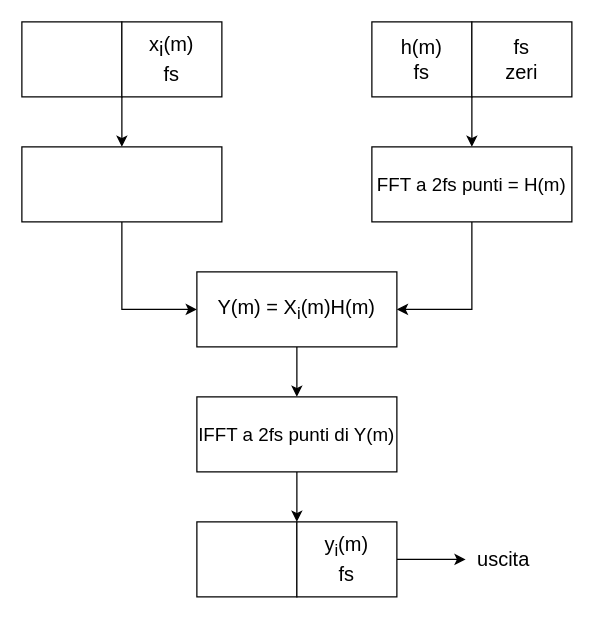
This 594x619 diagram has some shape labels left out. The centre of each missing label's shape, as x and y in pixels:
artefatti fs: (x=246, y=559)
FFT a 2fs punti = X i (m): (x=121, y=184)
x i-1 (m) fs: (x=71, y=59)
